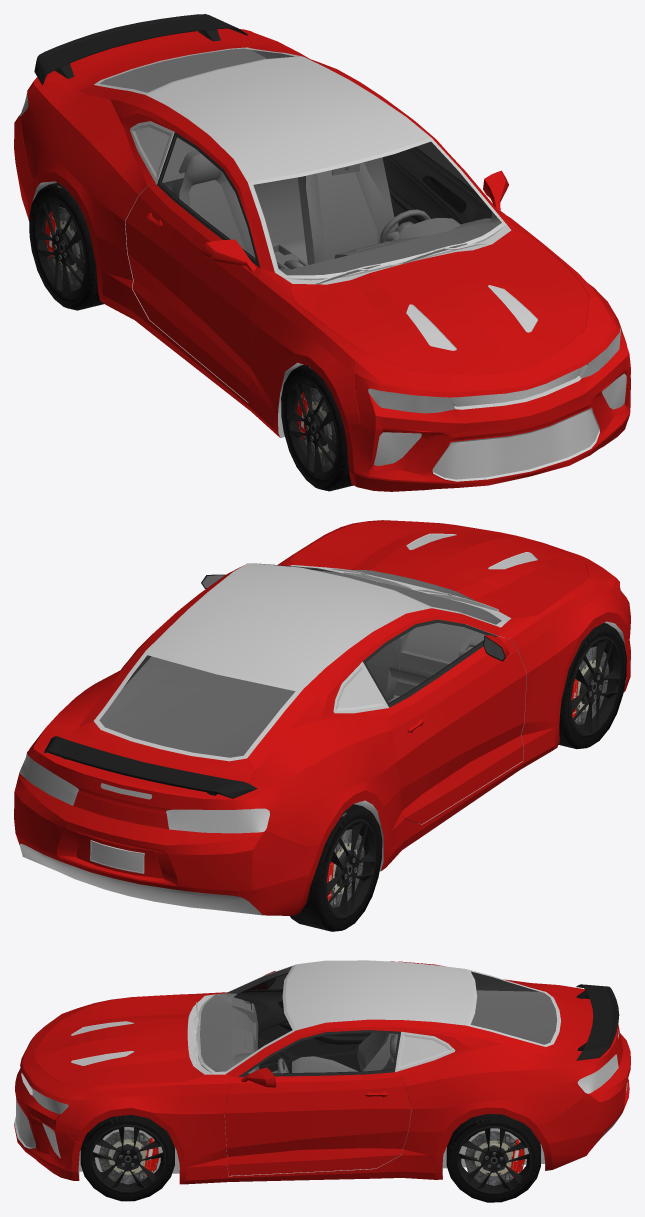
The model's file is Car 6.FBX.
3 renders of one model, top to bottom at view 1: azimuth 30°, elevation 25°; view 2: azimuth 150°, elevation 25°; view 3: azimuth 270°, elevation 25°, orthographic. The views are drawn at different scales.
Visible parts, largest first — view 1: Body, Door_r, Door_L, Wheel_BR, Wheel_FR, Wing, Brake_FR, Brake_BR; view 2: Body, Door_r, Wheel_BR, Wheel_FR, Wing, Brake_FR, Brake_BR; view 3: Body, Door_L, Wheel_BL, Wheel_FL, Door_r, Wing, Brake_BL, Brake_FL.
Part boxes in pixels (x1,y1,x2,y2): Body: [14, 28, 630, 491]; Door_r: [125, 132, 260, 401]; Door_L: [382, 142, 508, 225]; Wheel_BR: [29, 182, 103, 310]; Wheel_FR: [281, 365, 353, 491]; Wing: [34, 14, 247, 85]; Brake_FR: [297, 388, 336, 466]; Brake_BR: [45, 207, 84, 285]; Body: [14, 520, 630, 915]; Door_r: [363, 619, 526, 824]; Wheel_BR: [290, 804, 382, 931]; Wheel_FR: [558, 623, 626, 749]; Wing: [44, 736, 257, 798]; Brake_FR: [571, 646, 609, 724]; Brake_BR: [326, 829, 364, 907]; Body: [14, 960, 630, 1184]; Door_L: [224, 1030, 411, 1175]; Wheel_BL: [446, 1114, 540, 1202]; Wheel_FL: [80, 1114, 174, 1201]; Door_r: [234, 971, 371, 1072]; Wing: [576, 984, 619, 1060]; Brake_BL: [464, 1131, 524, 1185]; Brake_FL: [98, 1129, 158, 1184].
Size of the model in its own units: 150 by 105 by 356.
